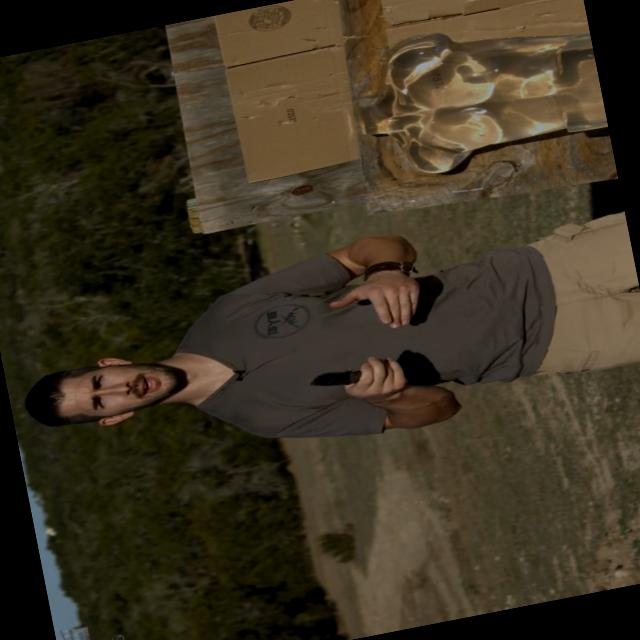knife: (300, 351, 413, 405)
